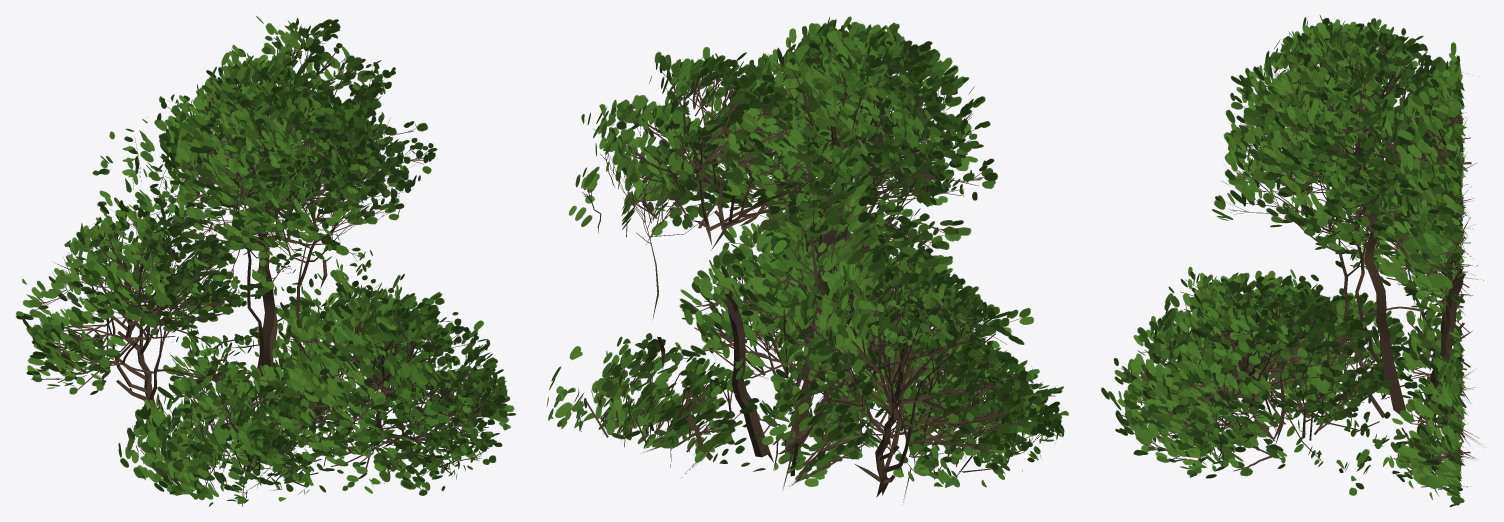
3 views of the same model, side by side, from view 1: azimuth 30°, elevation 25°; view 2: azimuth 150°, elevation 25°; view 3: azimuth 270°, elevation 25° (orthographic). The views are drawn at different scales.
Visible parts, largest first — view 1: oak 01.001_trunk_Mat.001_0.459; view 2: oak 01.001_trunk_Mat.001_0.459; view 3: oak 01.001_trunk_Mat.001_0.459.
Part boxes in pixels (box(x1,y1,x2,y2)): oak 01.001_trunk_Mat.001_0.459: box(15, 16, 515, 506); oak 01.001_trunk_Mat.001_0.459: box(546, 16, 1068, 502); oak 01.001_trunk_Mat.001_0.459: box(1101, 15, 1483, 507).
Size of the model in its own units: 4.47 by 3.95 by 3.46.
2 materials, 1 textured.
